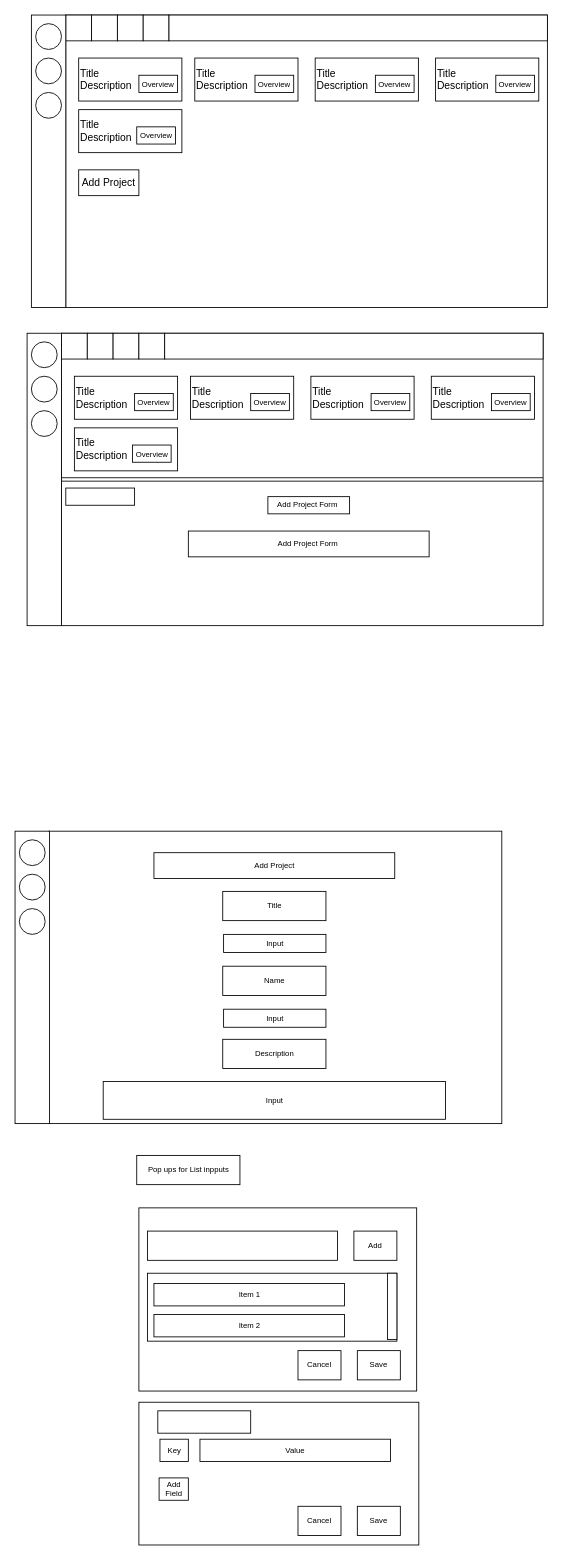
This 562x1560 diagram has some shape labels left out. Each missing label, with the box of its shape:
Documentation: (65, 487, 135, 505)
New [ITEM]: (147, 1230, 338, 1260)
Requirements: (157, 1410, 251, 1433)
